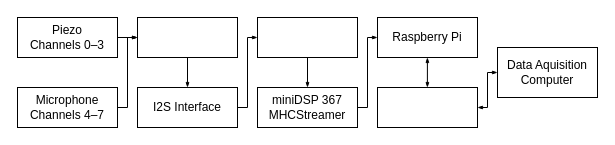
The diagram is 615 pixels wide and 145 high, and some of its shapes have lost their labels. Here are the shapes that lost their labels. From the top down, the centre of each, then its label:
At (187,37): "Custom Amplifier".
At (307,37): "TI PCM1808 ADC".
At (427,107): "Wi-Fi Access Point".
